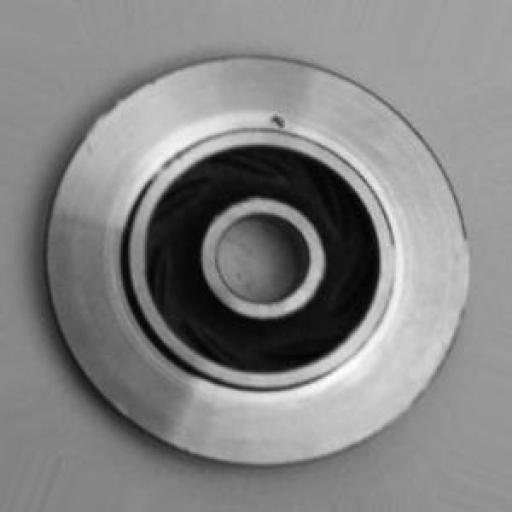defect: (264, 103, 296, 149)
